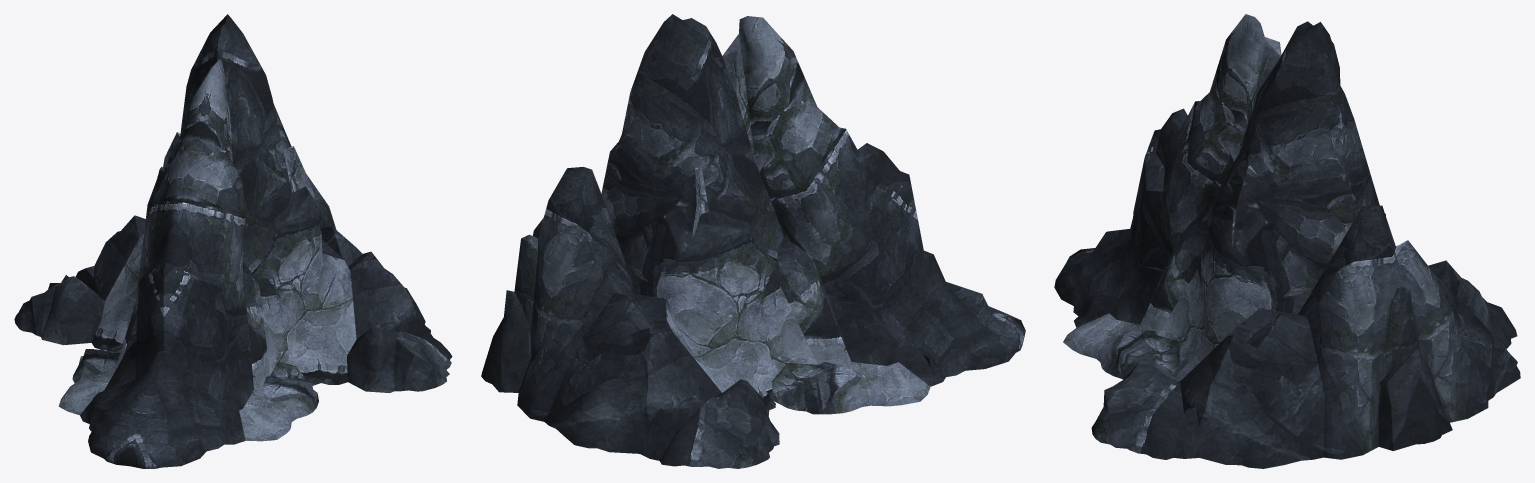
Rendered from cs_lobbynew02_shitou001_3.FBX.
3 renders of one model, left to right at view 1: azimuth 30°, elevation 25°; view 2: azimuth 150°, elevation 25°; view 3: azimuth 270°, elevation 25°, orthographic. The views are drawn at different scales.
Parts seen in each view (by area): view 1: cs_lobbynew02_shitou001_3; view 2: cs_lobbynew02_shitou001_3; view 3: cs_lobbynew02_shitou001_3.
Part boxes in pixels (x1,y1,x2,y2): cs_lobbynew02_shitou001_3: (14, 14, 452, 468); cs_lobbynew02_shitou001_3: (481, 14, 1025, 468); cs_lobbynew02_shitou001_3: (1054, 14, 1520, 468).
Bounding box in the file's own units: 3584 × 2862 × 3381.
